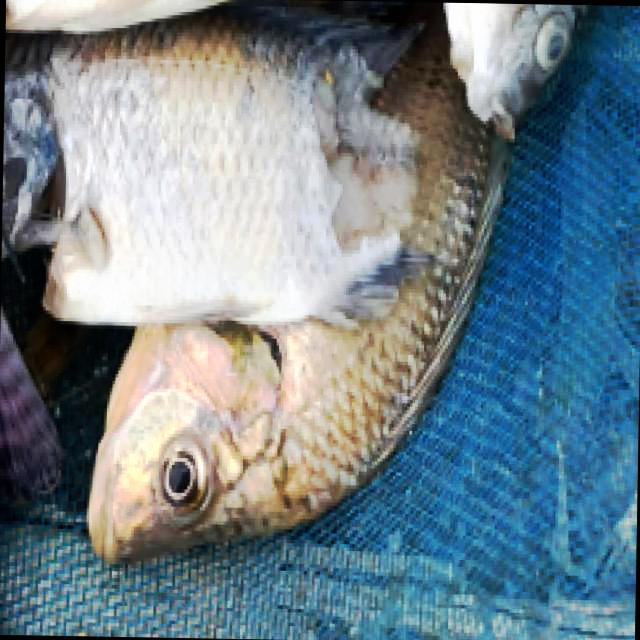Aeromonas Septicemia: (0, 0, 577, 567)
